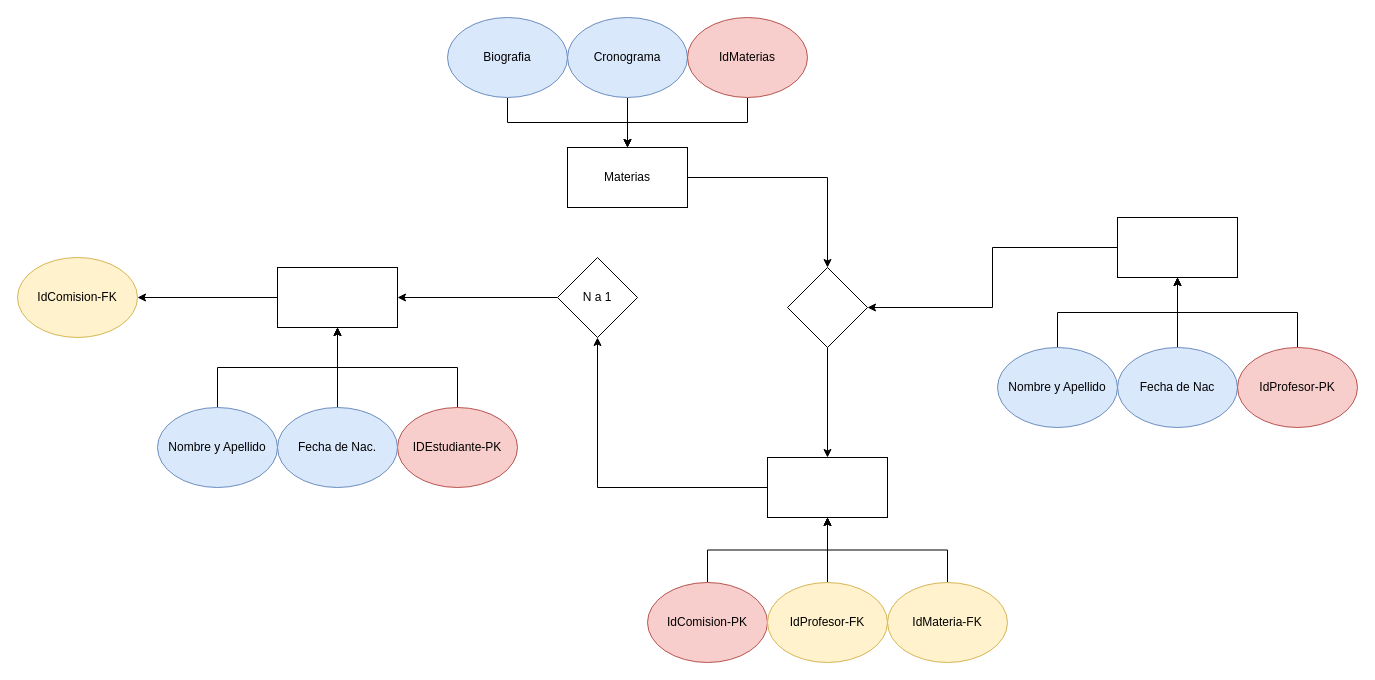
This 1375x680 diagram has some shape labels left out. Here are the shapes that lost their labels. From the top down, the centre of each, then its label:
At point (1177, 247): "Profesor".
At point (337, 297): "Estudiantes".
At point (827, 307): "N a N".
At point (827, 487): "Comision".
